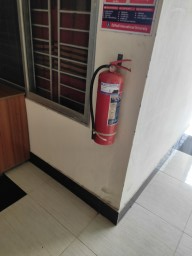fire_extinguisher: (44, 79, 109, 135)
